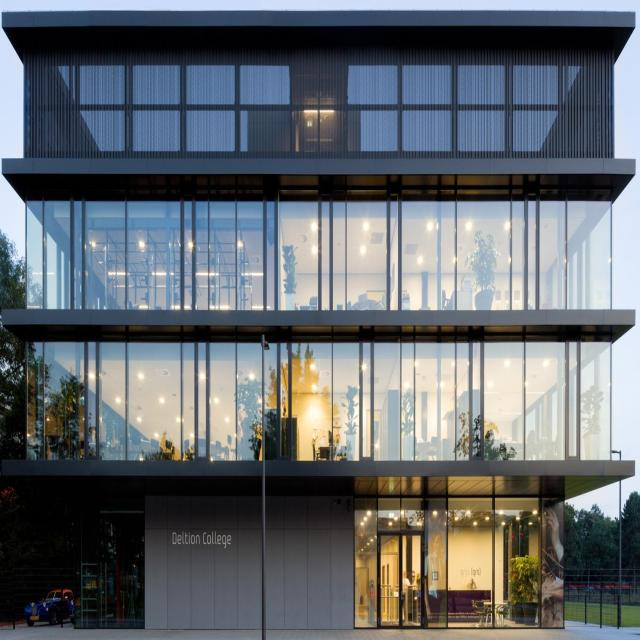door: (377, 530, 424, 630)
wall: (0, 9, 637, 628)
windows: (25, 343, 613, 459), (24, 202, 614, 310), (354, 495, 541, 628)
